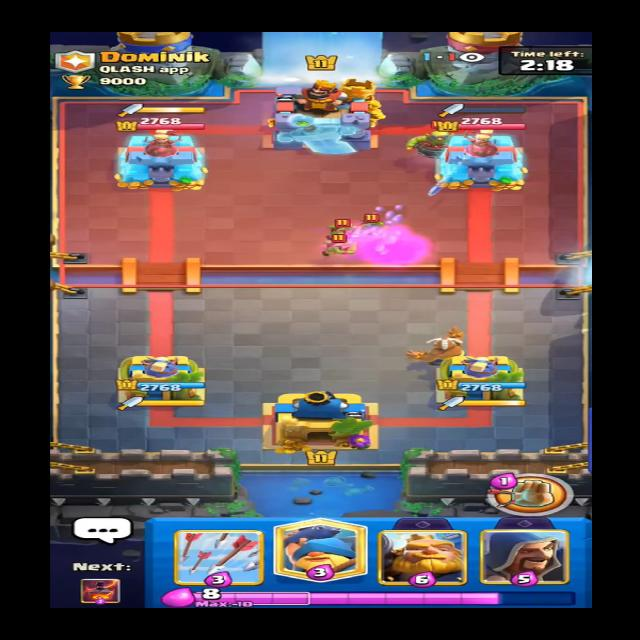goblin: (360, 206, 393, 231), (323, 236, 350, 259), (329, 217, 360, 234)
goblin-demolisher: (398, 121, 467, 158)
